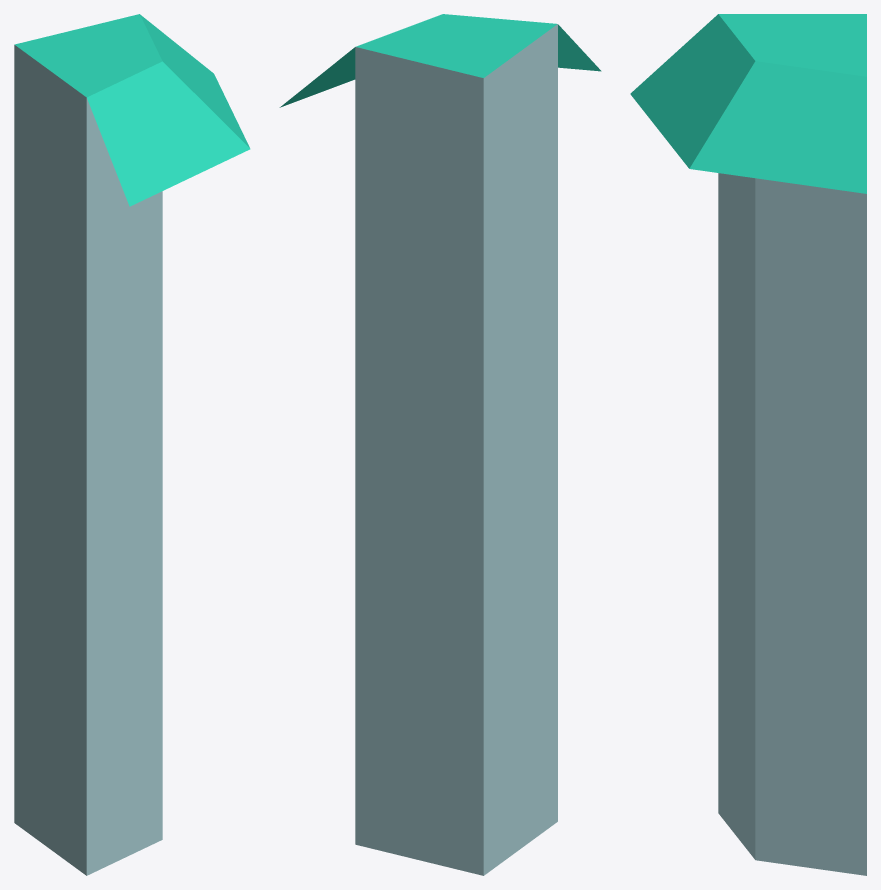
Rendered from cliff_cornerTop_stone.dae.
The picture shows the model from 3 angles, left to right: view 1: azimuth 30°, elevation 25°; view 2: azimuth 150°, elevation 25°; view 3: azimuth 270°, elevation 25°; orthographic projection. The views are drawn at different scales.
Parts seen in each view (by area): view 1: cliff_cornerTop_stone; view 2: cliff_cornerTop_stone; view 3: cliff_cornerTop_stone.
Part boxes in pixels (x1=…): cliff_cornerTop_stone: x1=14, y1=14, x2=250, y2=875; cliff_cornerTop_stone: x1=279, y1=14, x2=601, y2=875; cliff_cornerTop_stone: x1=630, y1=14, x2=866, y2=875.
Bounding box in the file's own units: 0.2685 × 1 × 0.2685.
